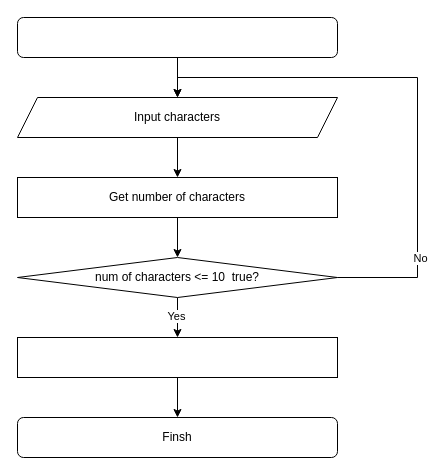
This 444x475 diagram has some shape labels left out. The box of each missing label's shape, as (x1, y1, x2, y2) in pixels:
Display "number of characters": (16, 336, 338, 378)
Start: (16, 16, 338, 58)
